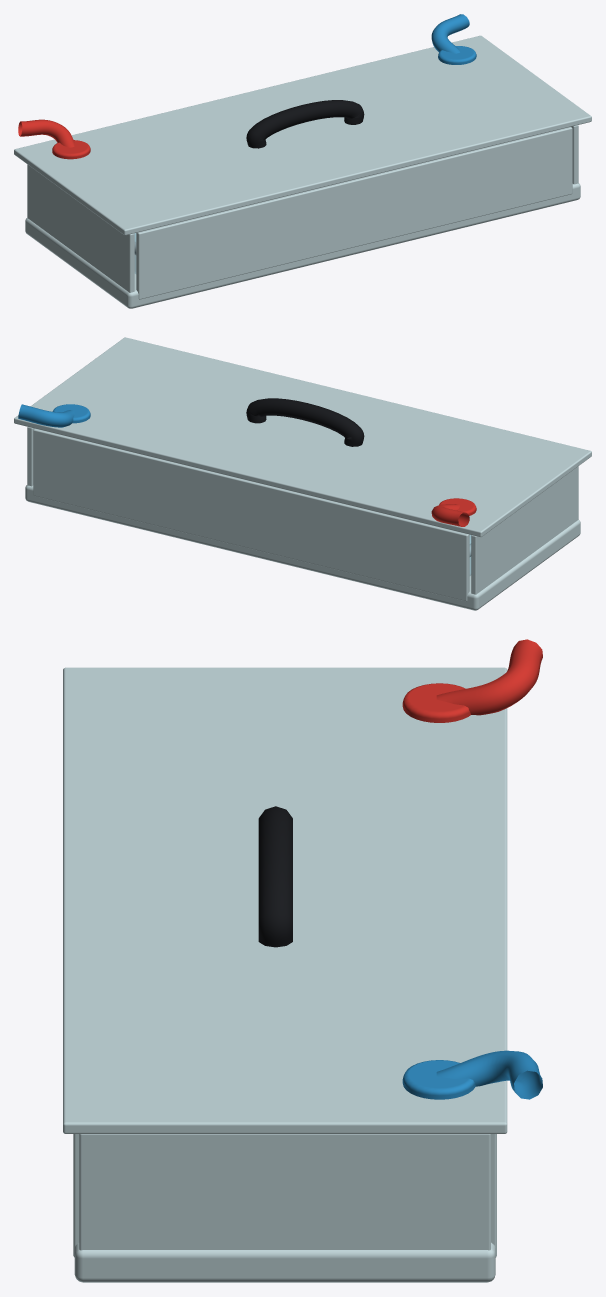
File: electrophoresis-tank.glb
3 renders of one model, top to bottom at view 1: azimuth 30°, elevation 25°; view 2: azimuth 150°, elevation 25°; view 3: azimuth 270°, elevation 25°, orthographic. The views are drawn at different scales.
Visible parts, largest first — view 1: Runtime batch - Clear molded laboratory acrylic, Runtime batch - Matte black coated handle, Runtime batch - Restrained laboratory red polymer, Runtime batch - Restrained laboratory blue polymer; view 2: Runtime batch - Clear molded laboratory acrylic, Runtime batch - Matte black coated handle, Runtime batch - Restrained laboratory blue polymer, Runtime batch - Restrained laboratory red polymer; view 3: Runtime batch - Clear molded laboratory acrylic, Runtime batch - Restrained laboratory red polymer, Runtime batch - Restrained laboratory blue polymer, Runtime batch - Matte black coated handle.
Part boxes in pixels (x1,y1,x2,y2): Runtime batch - Clear molded laboratory acrylic: [14, 35, 591, 308]; Runtime batch - Matte black coated handle: [246, 100, 364, 148]; Runtime batch - Restrained laboratory red polymer: [18, 119, 90, 159]; Runtime batch - Restrained laboratory blue polymer: [431, 14, 476, 64]; Runtime batch - Clear molded laboratory acrylic: [14, 337, 591, 610]; Runtime batch - Matte black coated handle: [246, 398, 364, 446]; Runtime batch - Restrained laboratory blue polymer: [18, 404, 90, 427]; Runtime batch - Restrained laboratory red polymer: [431, 498, 476, 526]; Runtime batch - Clear molded laboratory acrylic: [63, 667, 507, 1282]; Runtime batch - Restrained laboratory red polymer: [402, 639, 542, 722]; Runtime batch - Restrained laboratory blue polymer: [402, 1050, 542, 1099]; Runtime batch - Matte black coated handle: [258, 806, 292, 947].
Size of the model in its own units: 0.405 by 0.094 by 0.18.
